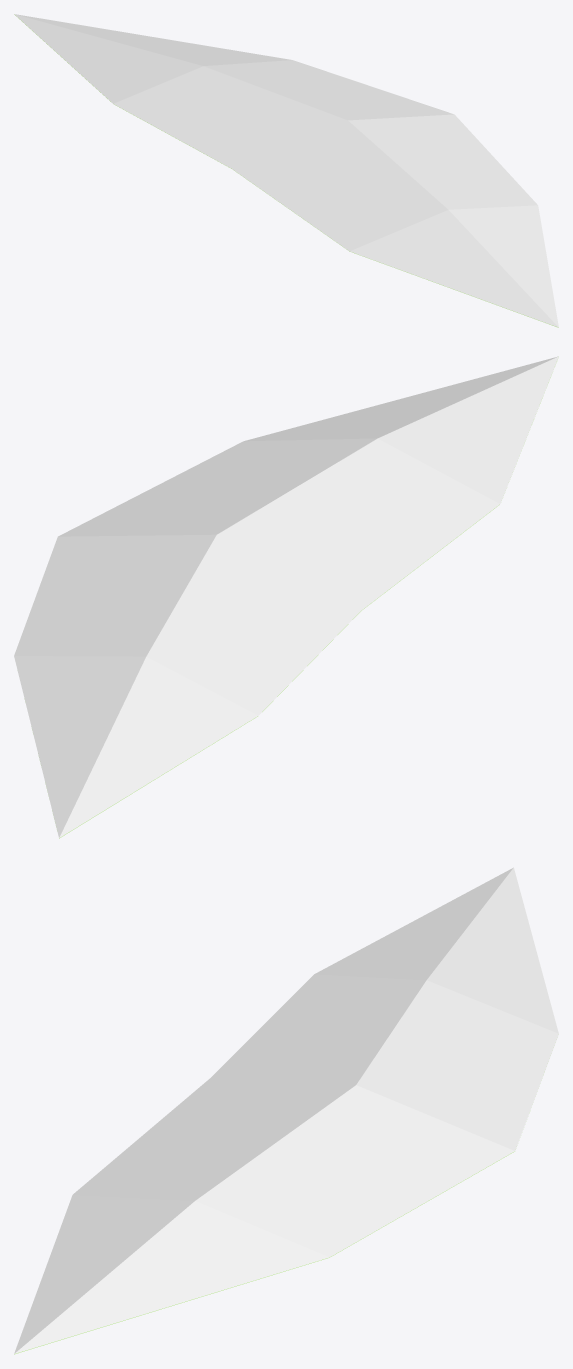
File: Palm_Leave_TwoSided_Snow_03.fbx
The picture shows the model from 3 angles, top to bottom: view 1: azimuth 30°, elevation 25°; view 2: azimuth 150°, elevation 25°; view 3: azimuth 330°, elevation 25°; orthographic projection. The views are drawn at different scales.
Parts seen in each view (by area): view 1: Palm_Leave_TwoSided_Snow_03; view 2: Palm_Leave_TwoSided_Snow_03; view 3: Palm_Leave_TwoSided_Snow_03.
Boxes of the visible parts, x1,y1,x2,y2 form: Palm_Leave_TwoSided_Snow_03: [14, 14, 558, 327]; Palm_Leave_TwoSided_Snow_03: [14, 356, 558, 838]; Palm_Leave_TwoSided_Snow_03: [14, 867, 558, 1354].
Bounding box in the file's own units: 88.19 × 11.56 × 285.
